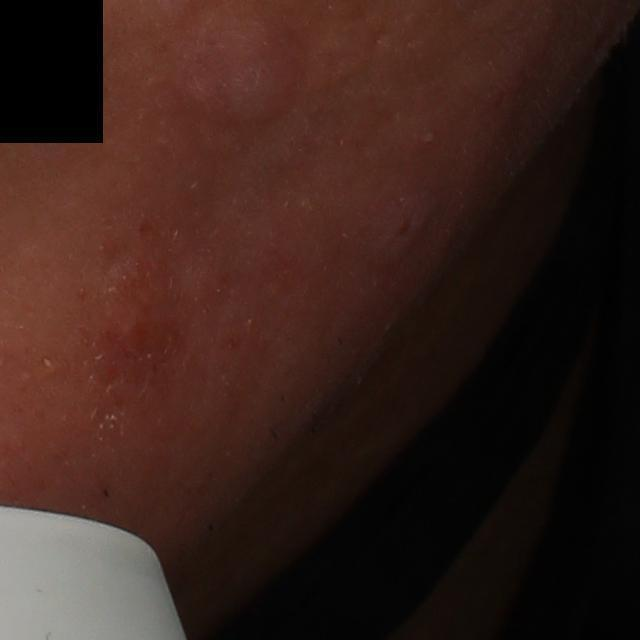nodule: (147, 4, 318, 149)
